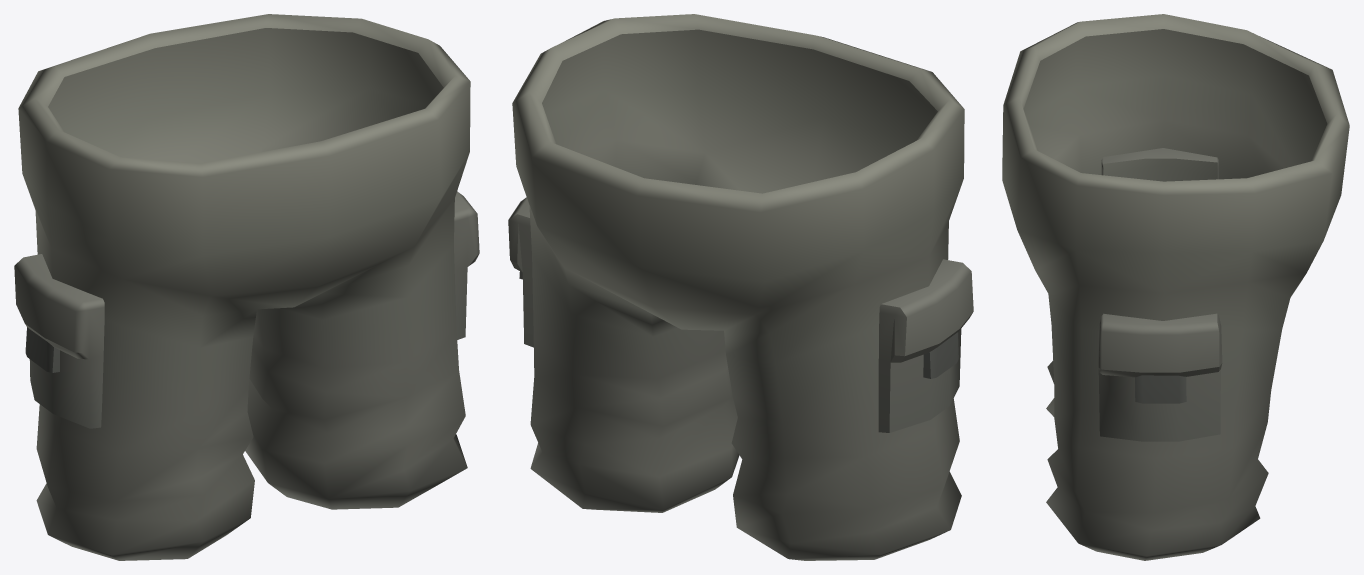
File: Bottom_4.fbx
3 views of the same model, side by side, from view 1: azimuth 30°, elevation 25°; view 2: azimuth 150°, elevation 25°; view 3: azimuth 270°, elevation 25° (orthographic). The views are drawn at different scales.
Visible parts, largest first — view 1: Bottom_4; view 2: Bottom_4; view 3: Bottom_4.
Boxes of the visible parts, <box> form: Bottom_4: <box>14,14,479,560</box>; Bottom_4: <box>508,14,973,560</box>; Bottom_4: <box>1002,14,1349,560</box>.
Size of the model in its own units: 40.66 by 38.42 by 31.34.
